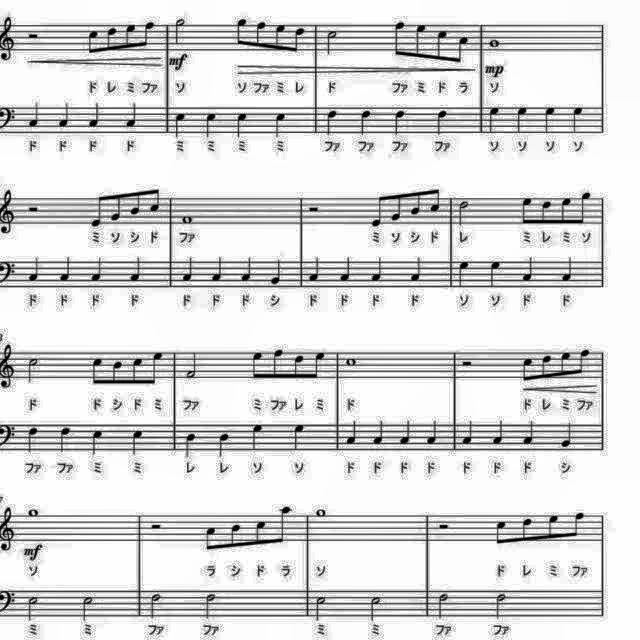Eighth-note: (276, 505, 296, 551), (388, 18, 408, 62), (412, 19, 430, 61), (89, 192, 108, 230), (147, 348, 165, 388), (576, 188, 594, 228), (369, 190, 387, 230), (89, 352, 107, 388), (434, 26, 451, 64), (568, 508, 586, 542), (310, 348, 328, 382), (518, 194, 536, 228), (249, 348, 267, 382), (85, 24, 103, 58), (227, 518, 246, 550), (453, 33, 471, 66), (233, 15, 250, 49), (543, 510, 561, 542), (251, 516, 269, 548), (202, 522, 220, 554), (519, 512, 537, 544), (491, 514, 509, 546), (103, 24, 121, 56), (388, 190, 404, 224), (270, 346, 286, 380), (108, 190, 124, 224), (272, 19, 288, 53), (558, 195, 574, 228), (290, 21, 306, 54), (128, 186, 144, 218), (408, 187, 424, 219), (558, 346, 574, 378), (130, 356, 146, 388), (252, 19, 268, 51), (426, 184, 442, 216), (575, 344, 591, 376), (123, 20, 139, 52), (146, 184, 162, 216), (520, 354, 536, 386), (140, 18, 156, 50), (538, 351, 554, 382), (538, 197, 554, 227), (290, 351, 306, 381), (110, 357, 124, 388)
Full-note: (24, 506, 41, 522), (178, 212, 196, 226), (344, 354, 361, 368), (487, 35, 503, 49), (314, 508, 328, 520)
Half-note: (365, 594, 383, 626), (79, 594, 97, 626), (455, 196, 473, 228), (183, 348, 201, 380), (491, 592, 509, 624), (145, 588, 163, 620), (433, 592, 451, 624), (202, 590, 220, 622), (322, 27, 340, 57), (26, 354, 42, 386), (314, 595, 331, 625), (26, 593, 42, 623), (173, 16, 190, 44)
Half-rest: (304, 200, 322, 217), (436, 518, 454, 534), (23, 200, 41, 216), (148, 519, 168, 533), (26, 29, 42, 43), (460, 356, 474, 368)
Quarter-note: (455, 258, 473, 290), (57, 424, 75, 456), (557, 420, 575, 452), (485, 102, 503, 134), (486, 258, 504, 290), (356, 106, 374, 138), (248, 422, 266, 453), (24, 424, 41, 456), (558, 255, 576, 285), (202, 112, 220, 142), (322, 109, 340, 139), (519, 255, 537, 285), (408, 255, 426, 285), (390, 109, 408, 139), (127, 255, 145, 285), (179, 255, 197, 285), (268, 258, 286, 288), (181, 431, 199, 461), (520, 417, 538, 447), (56, 99, 74, 129), (215, 432, 233, 461), (434, 109, 452, 138), (540, 102, 556, 134), (568, 102, 584, 134), (290, 422, 306, 454), (514, 102, 530, 134), (26, 98, 42, 130), (344, 417, 361, 447), (233, 111, 250, 141), (124, 100, 142, 128), (130, 427, 146, 457), (90, 255, 106, 285), (368, 256, 384, 286), (210, 256, 226, 286), (237, 256, 253, 286), (424, 417, 440, 447), (490, 417, 506, 447), (58, 255, 74, 285), (24, 255, 40, 285), (372, 417, 388, 447), (90, 428, 106, 457), (396, 418, 412, 447), (460, 419, 476, 448), (172, 112, 188, 140), (88, 100, 104, 128), (306, 258, 322, 286), (272, 112, 288, 140), (340, 256, 354, 286)
